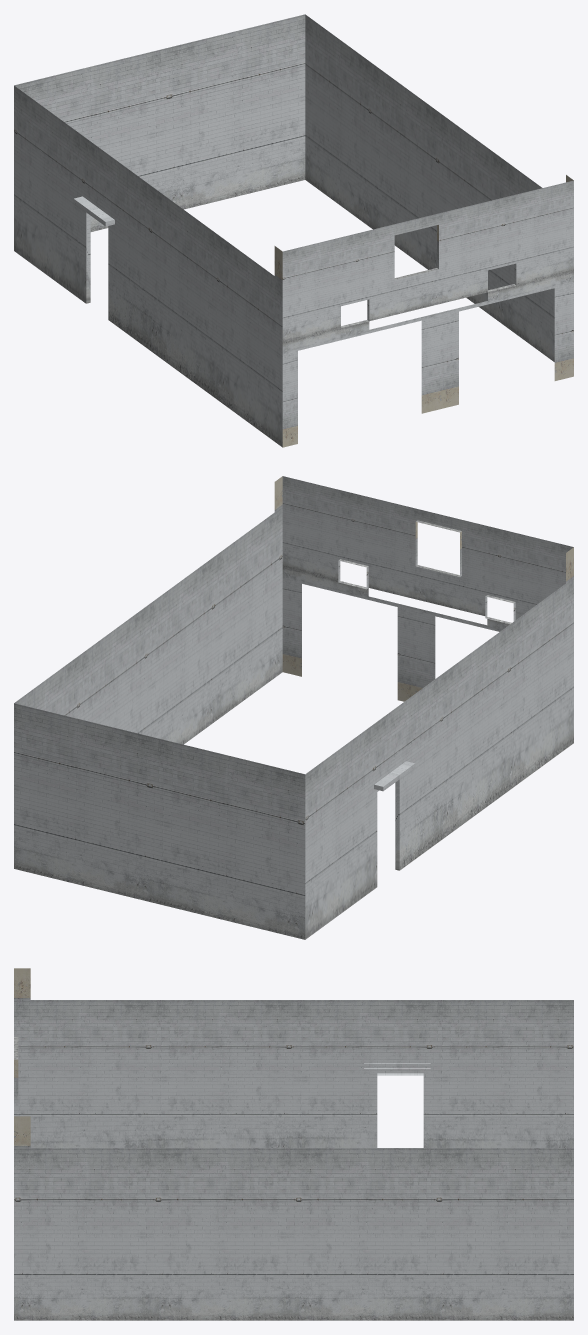
Rendered from rural_storesmall_8_rural_midcity_walls_flr_1_0_lev2.glb.
The picture shows the model from 3 angles, top to bottom: view 1: azimuth 30°, elevation 25°; view 2: azimuth 150°, elevation 25°; view 3: azimuth 270°, elevation 25°; orthographic projection. The views are drawn at different scales.
Visible parts, largest first — view 1: rural_storesmall_8_rural_midcity_walls_flr_1_0_lev2; view 2: rural_storesmall_8_rural_midcity_walls_flr_1_0_lev2; view 3: rural_storesmall_8_rural_midcity_walls_flr_1_0_lev2.
Part boxes in pixels (<box>): rural_storesmall_8_rural_midcity_walls_flr_1_0_lev2: <box>14,14,573,447</box>; rural_storesmall_8_rural_midcity_walls_flr_1_0_lev2: <box>14,476,573,939</box>; rural_storesmall_8_rural_midcity_walls_flr_1_0_lev2: <box>14,968,573,1320</box>.
Size of the model in its own units: 9.17 by 5.72 by 14.2.
Materials: 1 (1 with a texture image).
